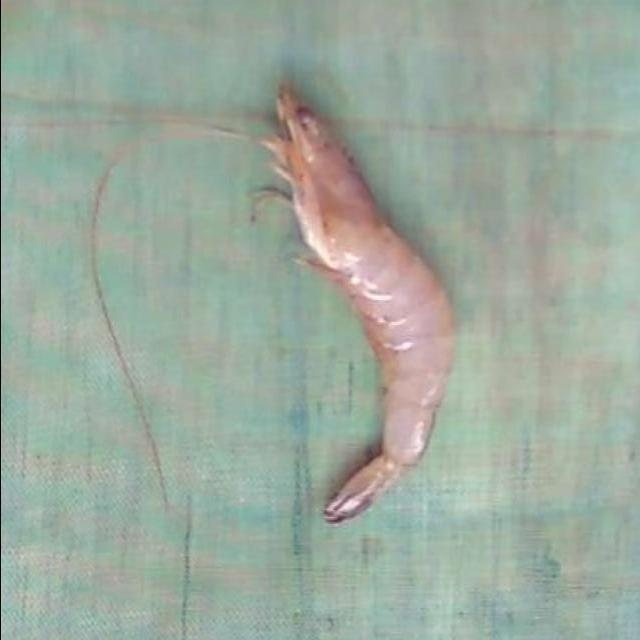shrimp: (261, 87, 453, 524)
